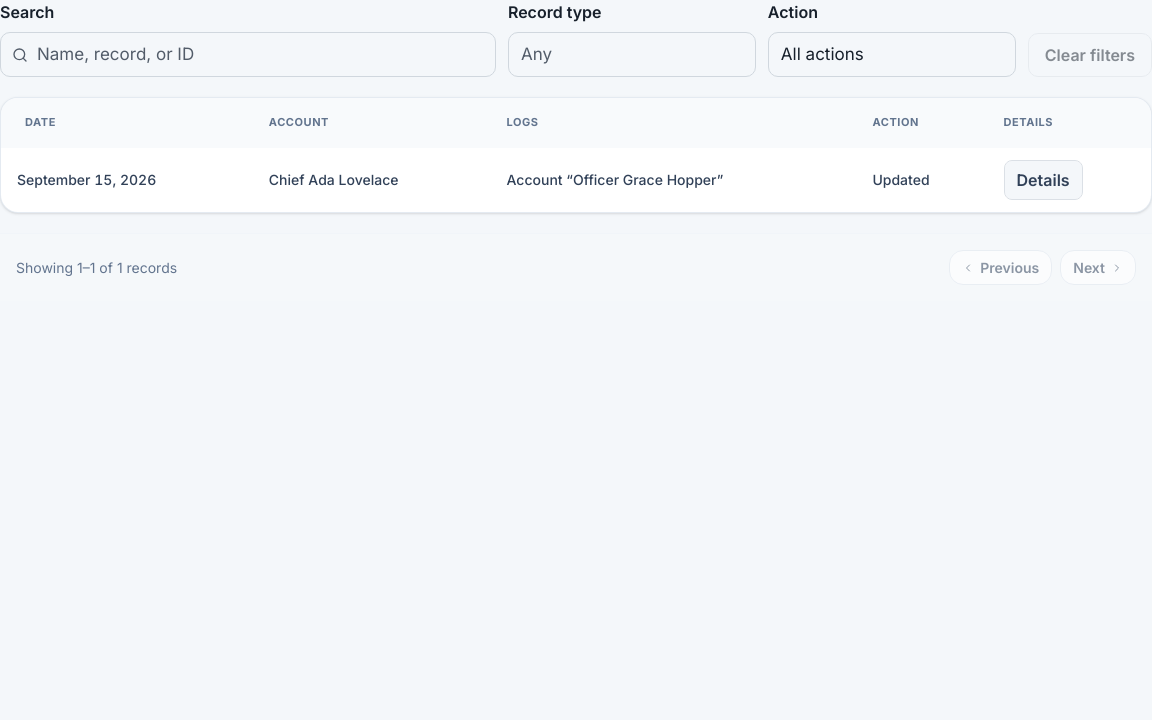
it: administration shared controls › renders the audit table as Date, Account, Logs, Action, Details with a readable details dialog
Check: the column headings read "Date", "Account", "Logs", "Action", "Details", in this order, box [1, 98, 253, 148]; [253, 98, 490, 148]; [490, 98, 856, 148]; [856, 98, 988, 148]; [988, 98, 1151, 148]
Check: the text "September 15, 2026" is shown, box [17, 171, 156, 188]
Step 1. Click the button with aria-label "view details for audit record 1" → (1043, 180), box [1004, 160, 1083, 200]
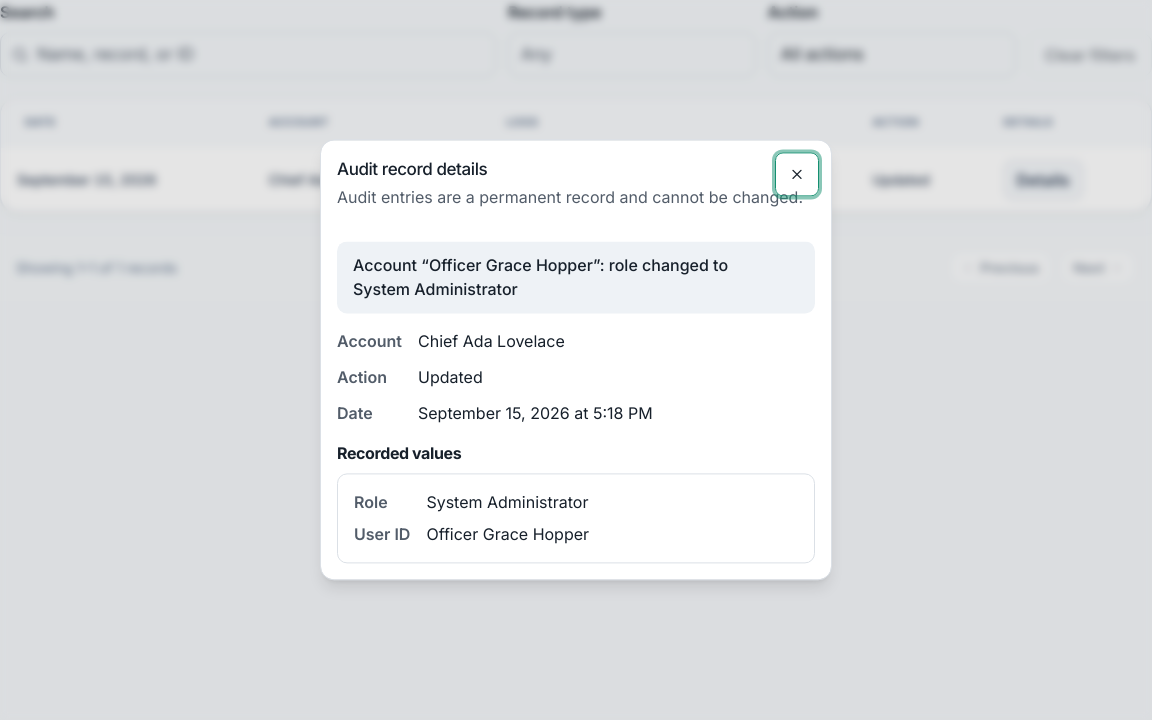
Check: the dialog "Audit record details" does not show "system_administrator", box [320, 139, 832, 581]
Check: the dialog "Audit record details" shows "System Administrator", box [426, 493, 588, 513]
